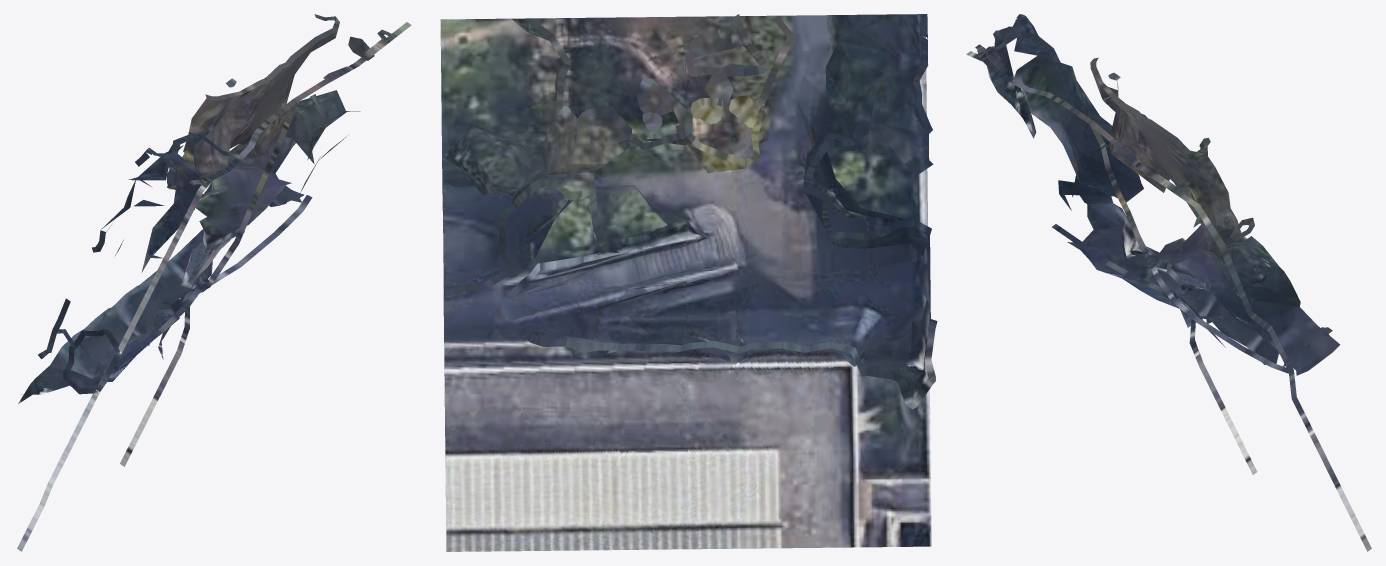
3 views of the same model, side by side, from view 1: azimuth 30°, elevation 25°; view 2: azimuth 150°, elevation 25°; view 3: azimuth 270°, elevation 25° (orthographic). The views are drawn at different scales.
Size of the model in its own units: 38.32 by 37.17 by 32.56.
Materials: 2 (2 with a texture image).
